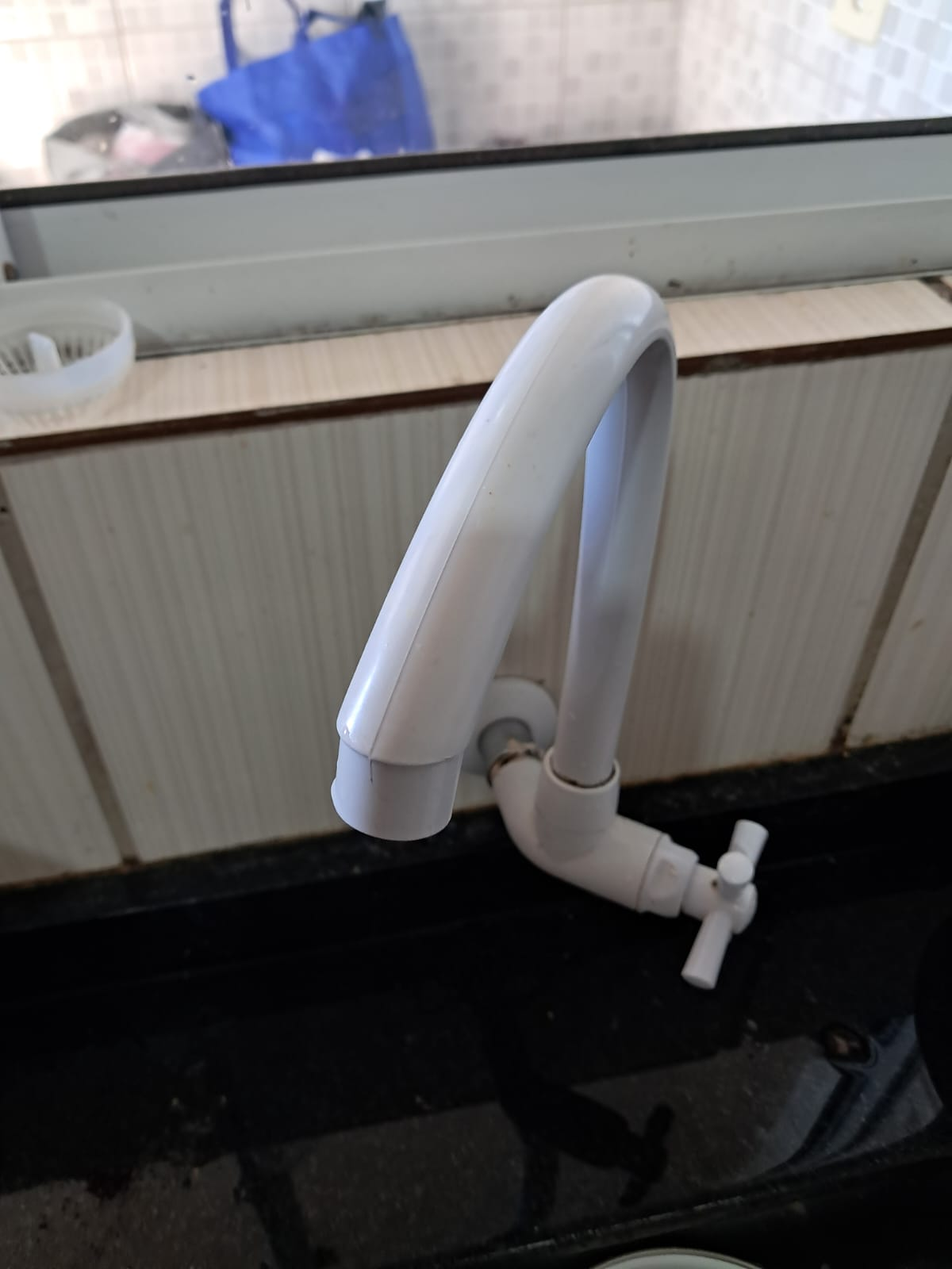torneira_fechada: (296, 264, 787, 999)
